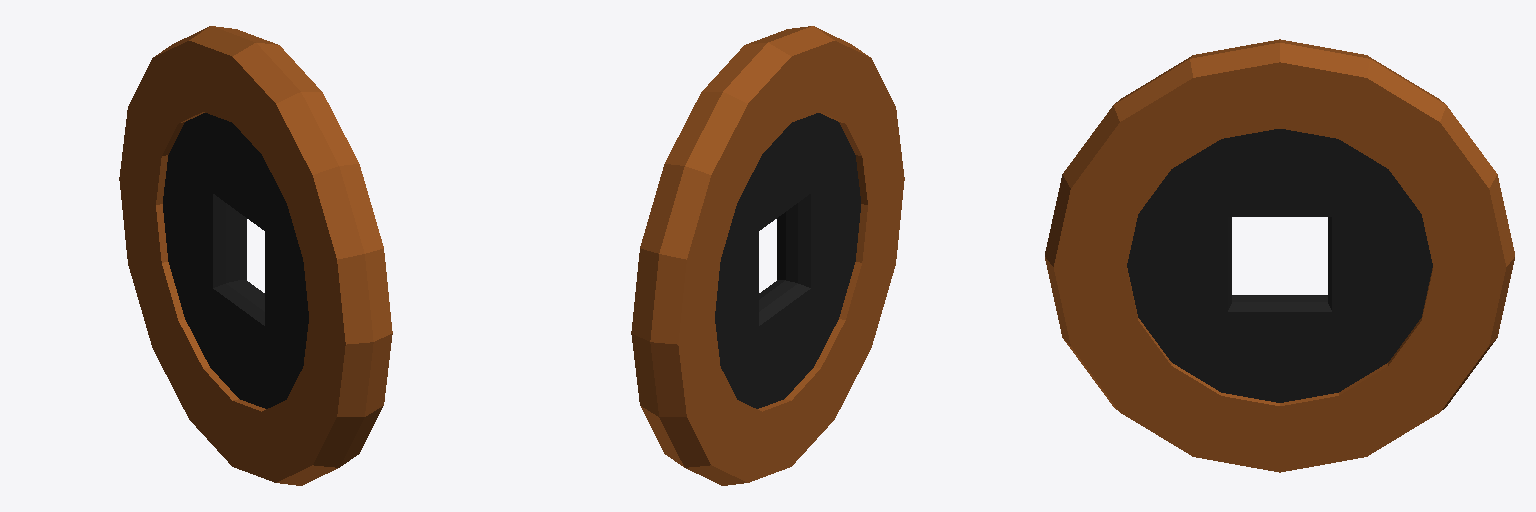
File: coin.obj
3 renders of one model, left to right at view 1: azimuth 30°, elevation 25°; view 2: azimuth 150°, elevation 25°; view 3: azimuth 270°, elevation 25°, orthographic.
Visible parts, largest first — view 1: Cylinder; view 2: Cylinder; view 3: Cylinder.
Boxes of the visible parts, box(x1,y1,x2,y2) form: Cylinder: box(119, 26, 392, 485); Cylinder: box(631, 26, 904, 485); Cylinder: box(1045, 39, 1514, 472).
Size of the model in its own units: 0.2395 by 2.08 by 2.08.